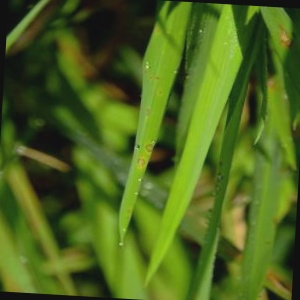Brown_Spot: (142, 135, 163, 158)
